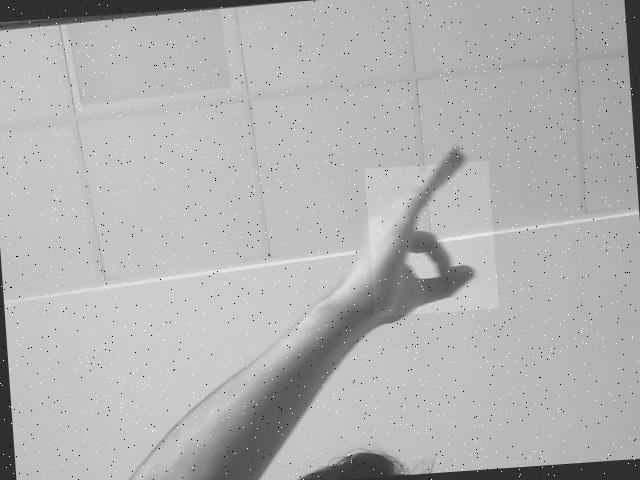OK: (364, 160, 498, 316)
